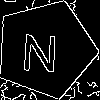N: (20, 24, 60, 72)
